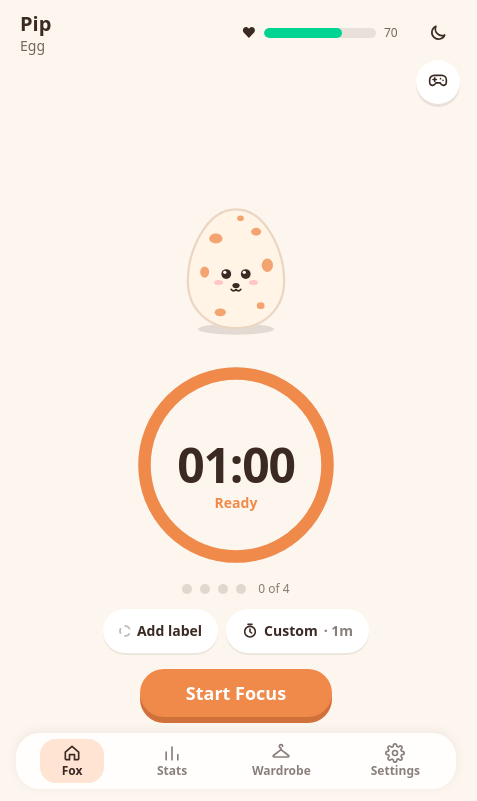
Test: leave detection › counts a session that finished while away as completed
The image size is (477, 801).
Click the button "Start Focus" at (236, 693), box top-left (140, 669), bottom-right (332, 717)
Wait 58000 ms
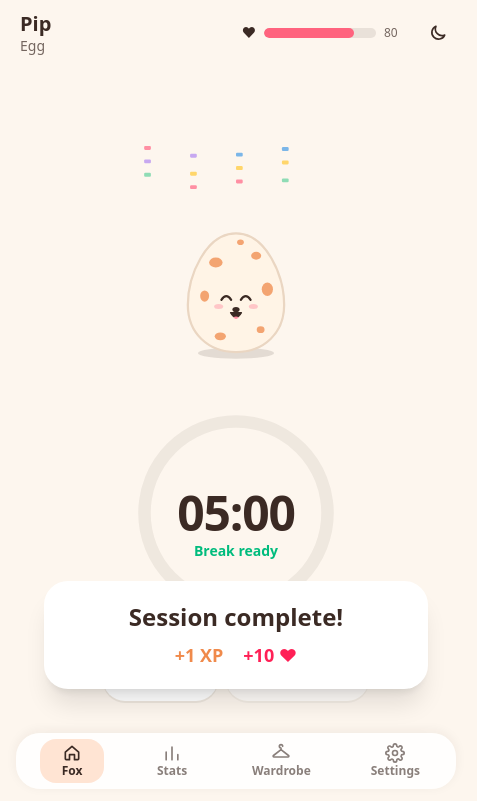
expect the text "Session complete!" is shown: met, box top-left (129, 600), bottom-right (343, 633)
